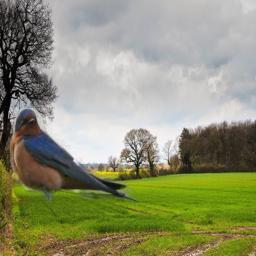Swallow: (10, 108, 140, 203)
